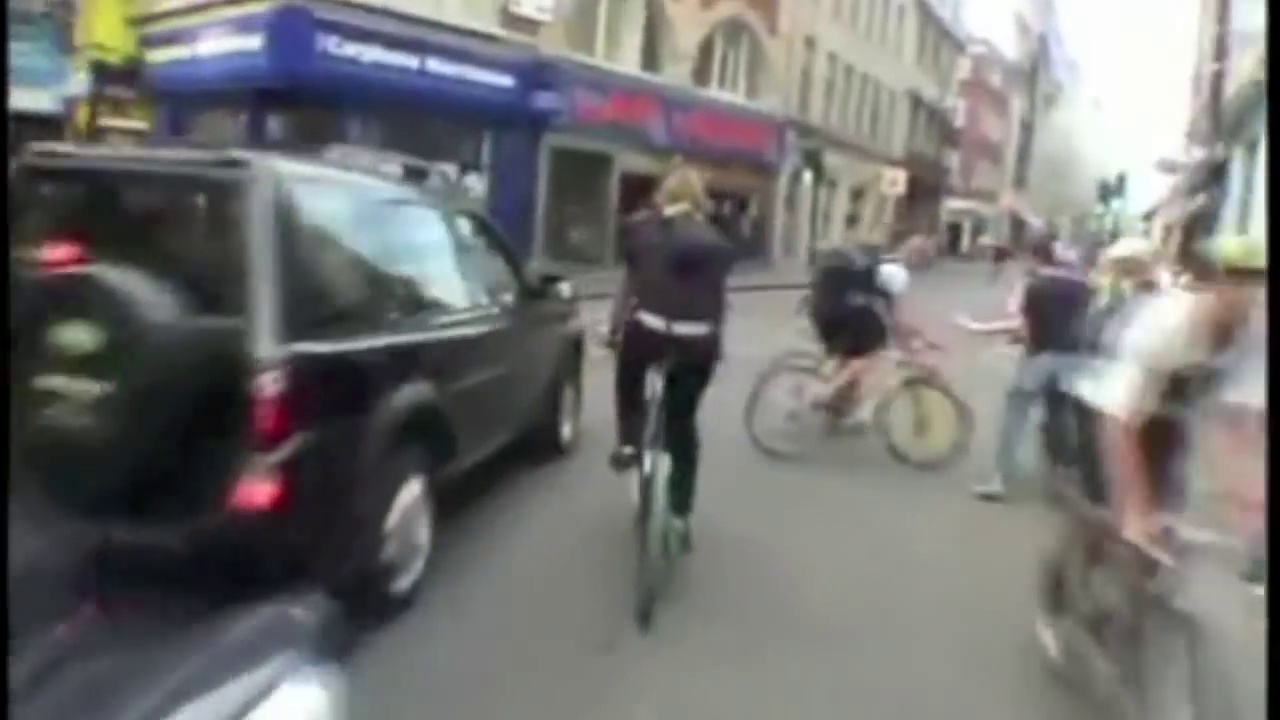cyclist_back: (599, 148, 724, 614)
cyclist_side: (749, 201, 973, 474)
